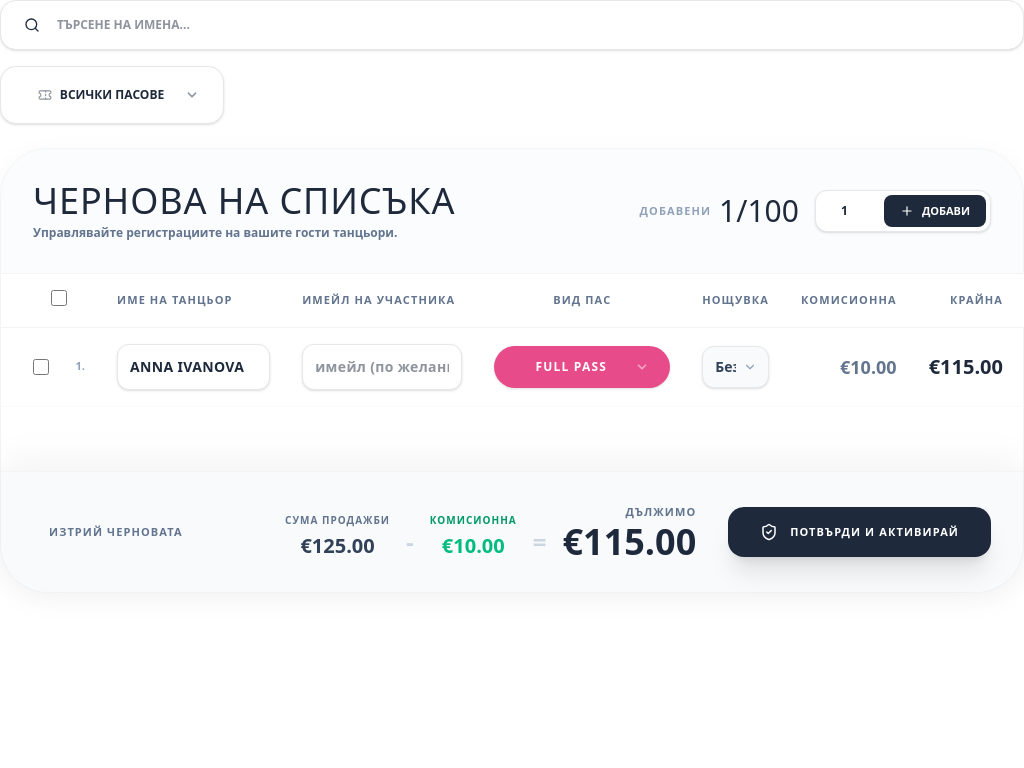
it: compact draft table and room modal › renders the Bulgarian table and modal
Expected: the column heading "Имейл на участника" is shown, [286, 274, 478, 328]
Select "Detelina" in the dropdown named "Нощувка" at coordinates (736, 366), box [702, 346, 769, 388]
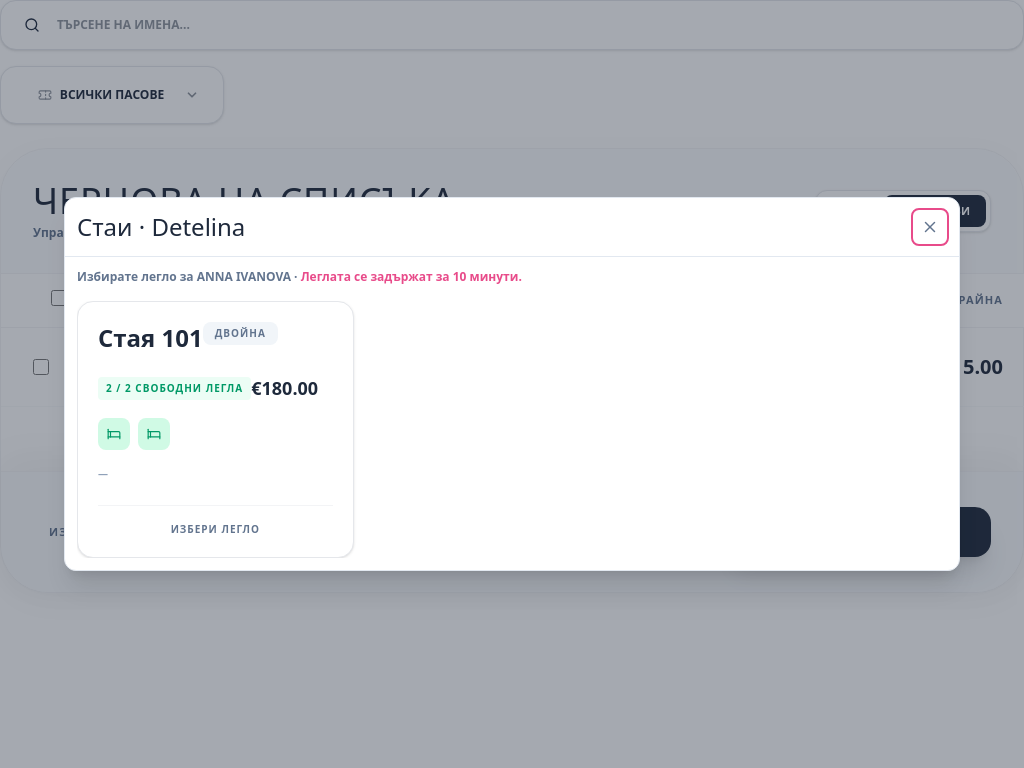
Now the dialog "Стаи · Detelina" is shown, box [64, 197, 960, 571]
